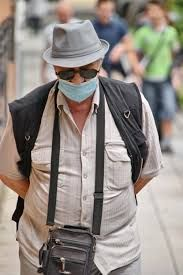with-mask: (49, 42, 106, 104)
